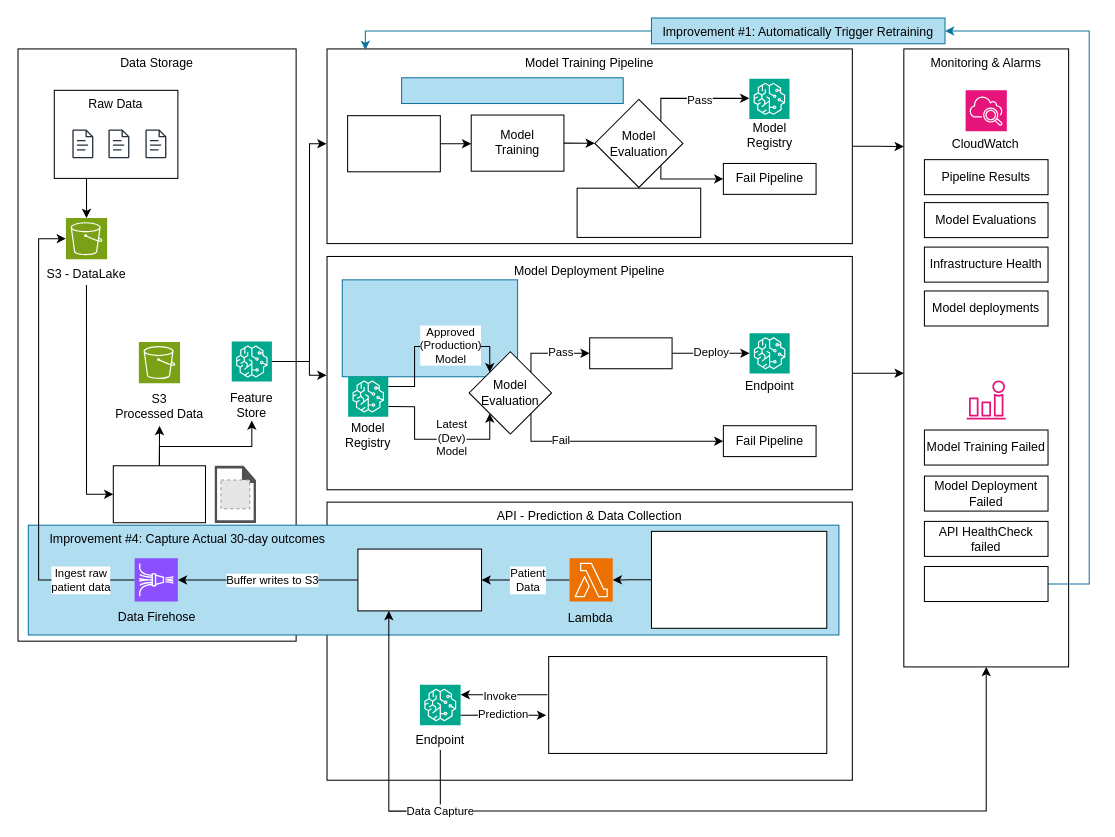
Some shapes in this 1115 by 837 pixel diagram are drawn without their labels. Grey dashed boxes stand in for pictures. The centre of each missing label's shape, as x and y in pixels:
"Approve Latest Model" goes at [630,353].
"Data Preprocessing" goes at [393,143].
"Data Processing" goes at [419,579].
"Improvement #2: Better model tuning" goes at [512,90].
"Improvement #3: Automate Dev Model Promotion to Approved" goes at [429,328].
"Model Quality Degradation" goes at [985,583].
"POST /endpoints/EndpointName/invocations { facilityId, patientId, patientData }" goes at [687,704].
"POST /patient/admitted { facilityId, patientId, patientData }" goes at [738,579].
"Recall, precision, PR-AUC, ROC-AUC, baseline, RecallGap" goes at [638,212].
"SageMaker Notebook Job" goes at [158,494].
